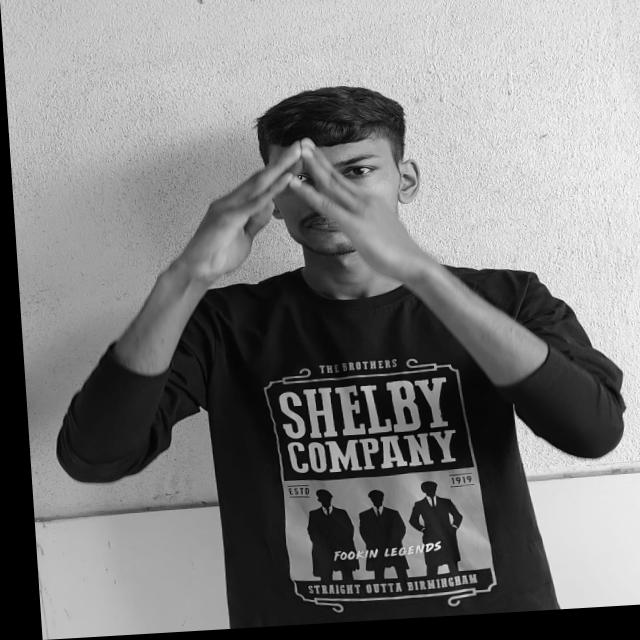Home: (158, 133, 445, 305)
